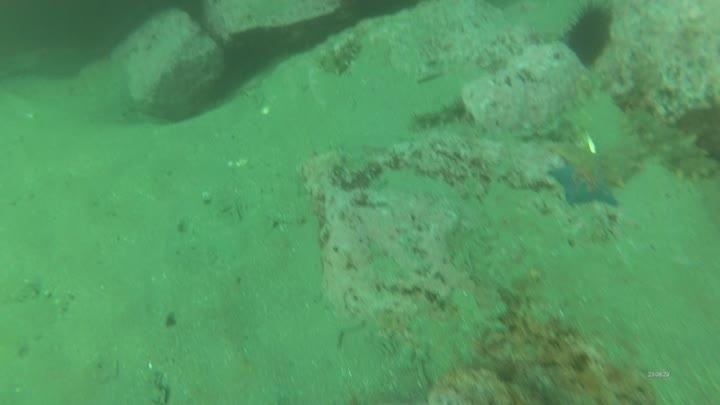echinus: (560, 2, 617, 70)
holothurian: (624, 105, 719, 185), (607, 120, 644, 190), (315, 32, 367, 78), (408, 95, 469, 134)
starfish: (545, 150, 623, 210)
